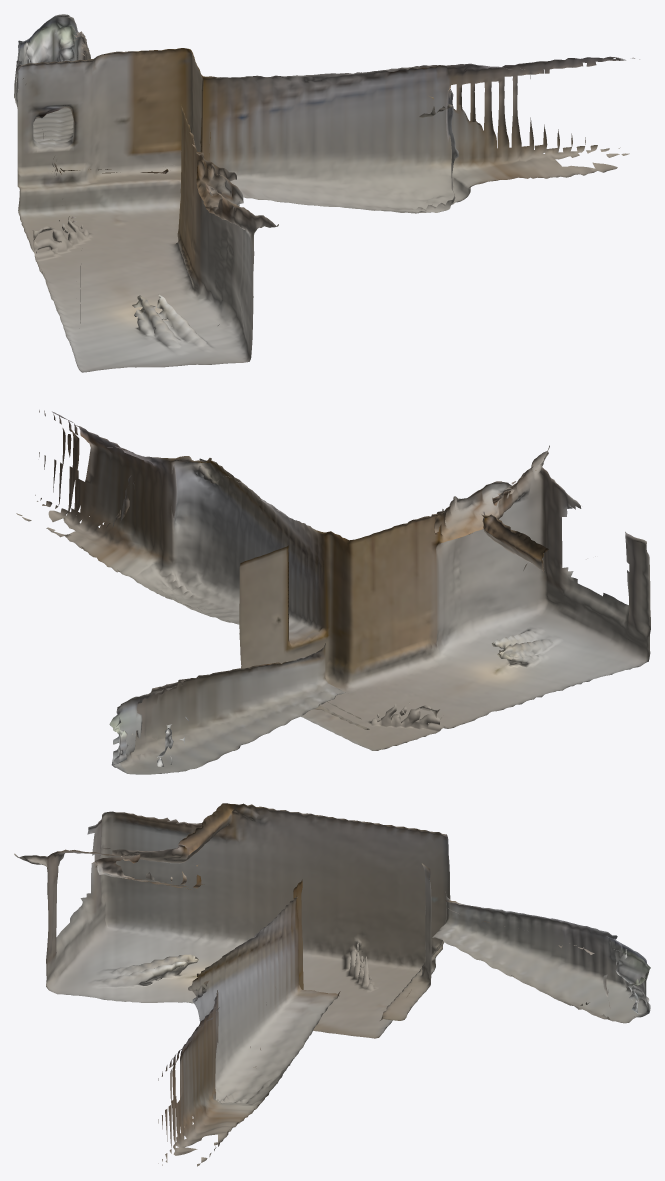
File: collider.glb
3 views of the same model, one above another, from view 1: azimuth 30°, elevation 25°; view 2: azimuth 150°, elevation 25°; view 3: azimuth 270°, elevation 25° (orthographic). The views are drawn at different scales.
Visible parts, largest first — view 1: world; view 2: world; view 3: world.
Boxes of the visible parts, x1,y1,x2,y2 form: world: [14, 14, 639, 372]; world: [16, 410, 650, 774]; world: [14, 803, 650, 1166].
Bounding box in the file's own units: 21.69 × 5.37 × 20.66.
